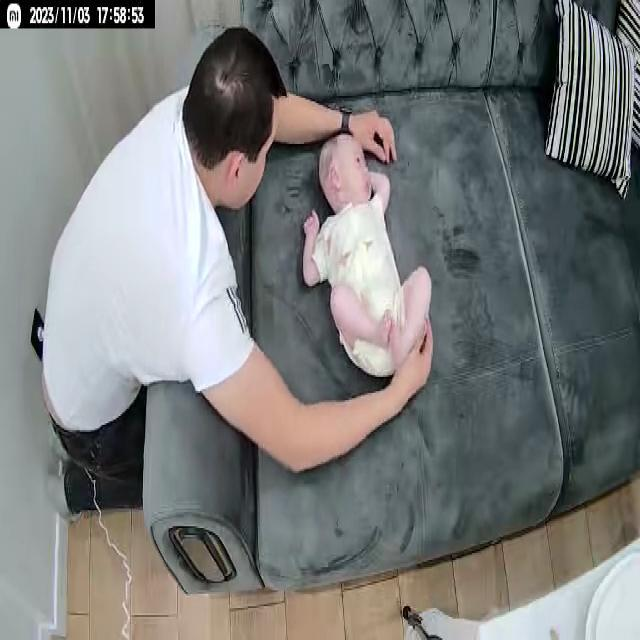baby: (299, 131, 433, 384)
